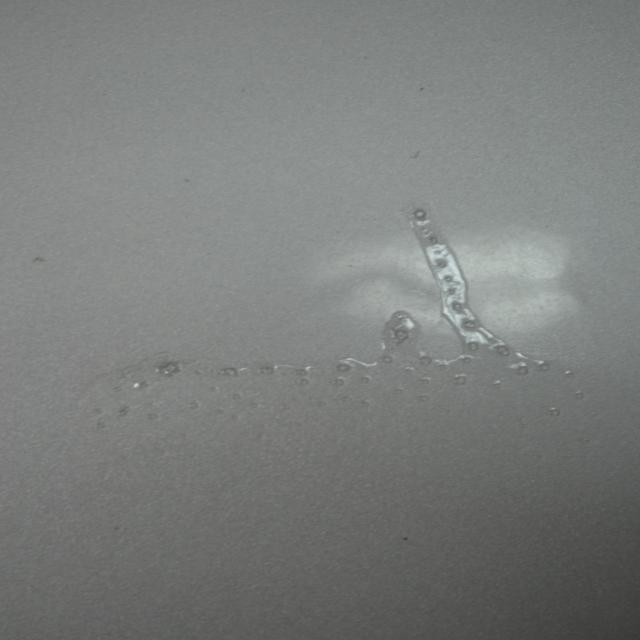dirt: (25, 252, 49, 265), (405, 147, 426, 160), (177, 177, 195, 187), (400, 533, 412, 546), (418, 87, 426, 94)
runs: (26, 201, 598, 437)
